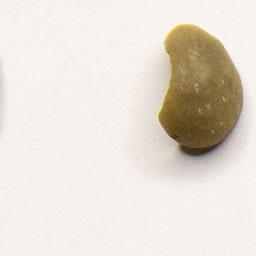premium: (154, 19, 245, 156)
